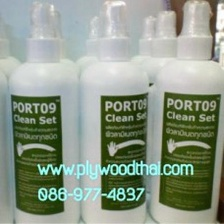cleaning_solution: (5, 0, 86, 224), (146, 0, 224, 224), (76, 3, 154, 223)
